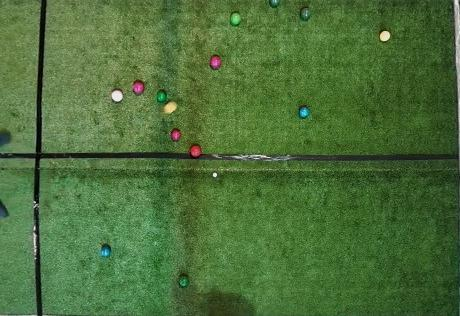blue: (299, 107, 310, 118), (100, 246, 111, 257)
green: (230, 13, 241, 26), (300, 8, 311, 21), (179, 275, 189, 287), (268, 0, 281, 9), (157, 91, 167, 102)
red: (111, 90, 123, 102), (210, 56, 221, 69), (133, 82, 144, 94), (191, 146, 201, 157), (171, 130, 181, 141)
vline: (1, 0, 48, 315), (450, 0, 459, 316)
white: (213, 172, 217, 177)
yellow: (164, 101, 178, 114), (379, 31, 391, 42)
